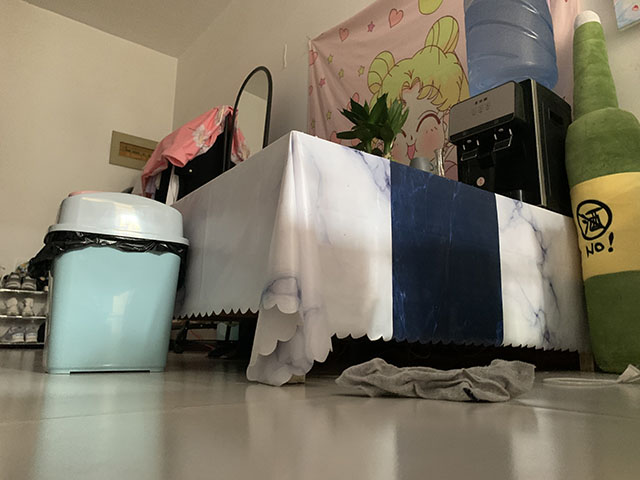socks: (333, 357, 536, 404)
table: (167, 129, 597, 387)
trashcan: (27, 189, 190, 376)
wire: (540, 363, 640, 388)
